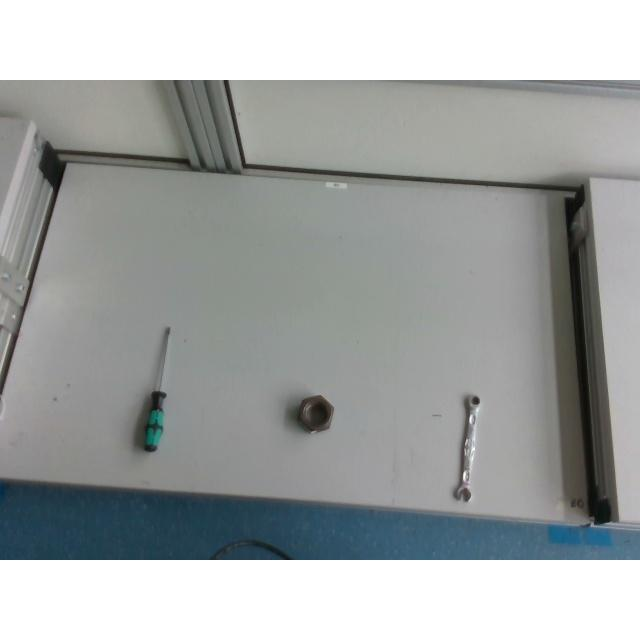M30: (296, 394, 332, 430)
Screwdriver: (143, 326, 169, 450)
Wrench: (454, 393, 482, 502)
